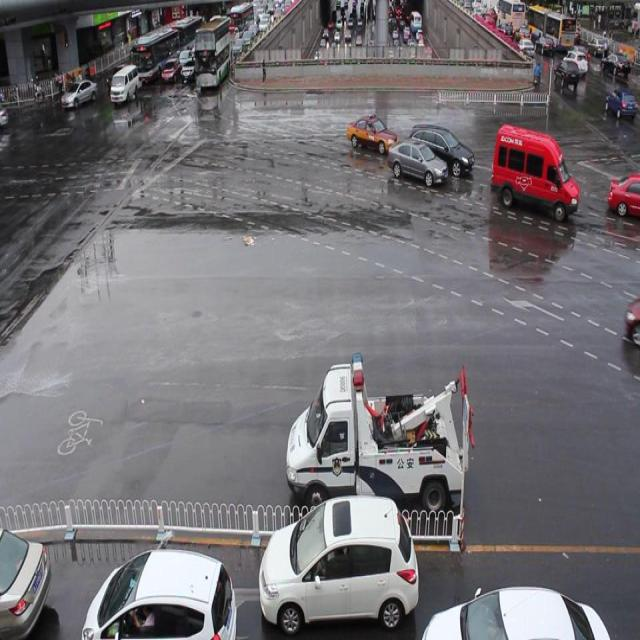bus: (284, 345, 472, 517)
car: (260, 493, 419, 628), (84, 548, 237, 640), (422, 585, 612, 640), (0, 522, 51, 640), (408, 121, 472, 175), (386, 137, 448, 183), (344, 112, 396, 150), (607, 174, 640, 218), (623, 294, 640, 351)
truck: (490, 119, 576, 218)
